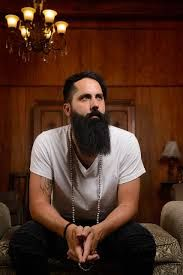no-mask: (55, 68, 123, 132)
